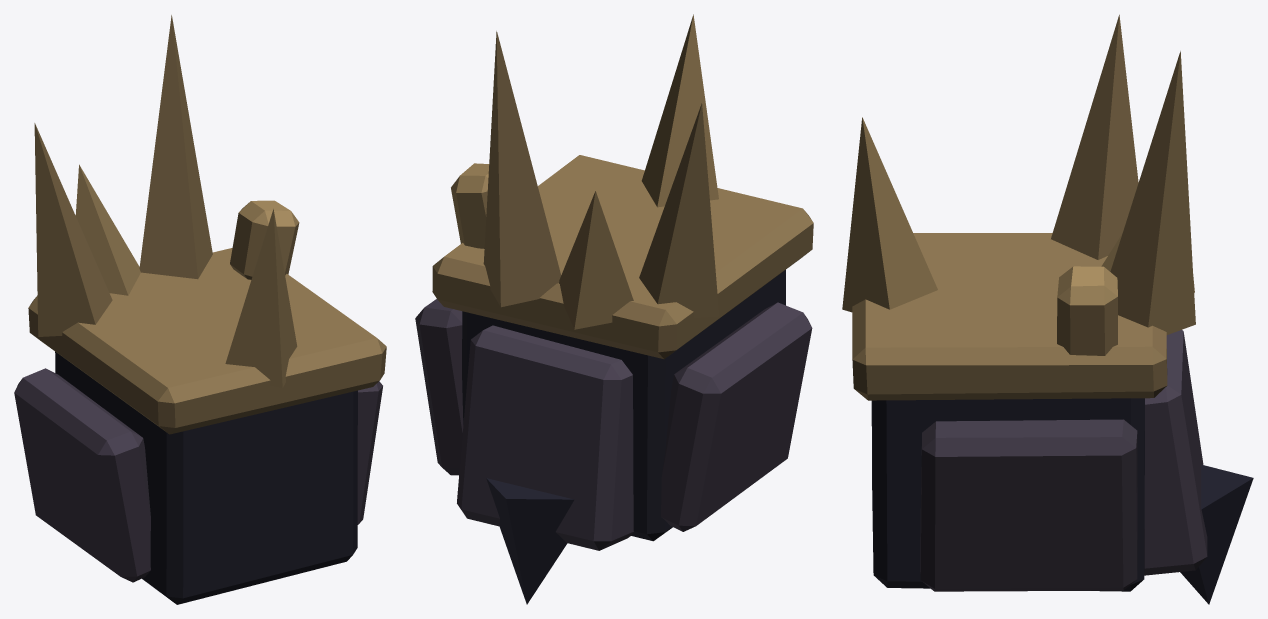
The model's file is soberano_cabeca.fbx.
3 renders of one model, left to right at view 1: azimuth 30°, elevation 25°; view 2: azimuth 150°, elevation 25°; view 3: azimuth 270°, elevation 25°, orthographic. The views are drawn at different scales.
Visible parts, largest first — view 1: soberano_cabeca; view 2: soberano_cabeca; view 3: soberano_cabeca.
Boxes of the visible parts, x1,y1,x2,y2 form: soberano_cabeca: [14, 15, 386, 604]; soberano_cabeca: [415, 14, 813, 604]; soberano_cabeca: [842, 14, 1253, 604].
Bounding box in the file's own units: 1.88 × 3.25 × 2.1.
